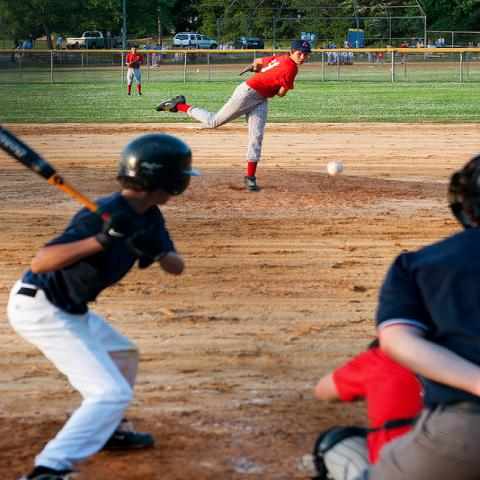car: (66, 31, 120, 50), (173, 32, 218, 50), (232, 37, 265, 50)
